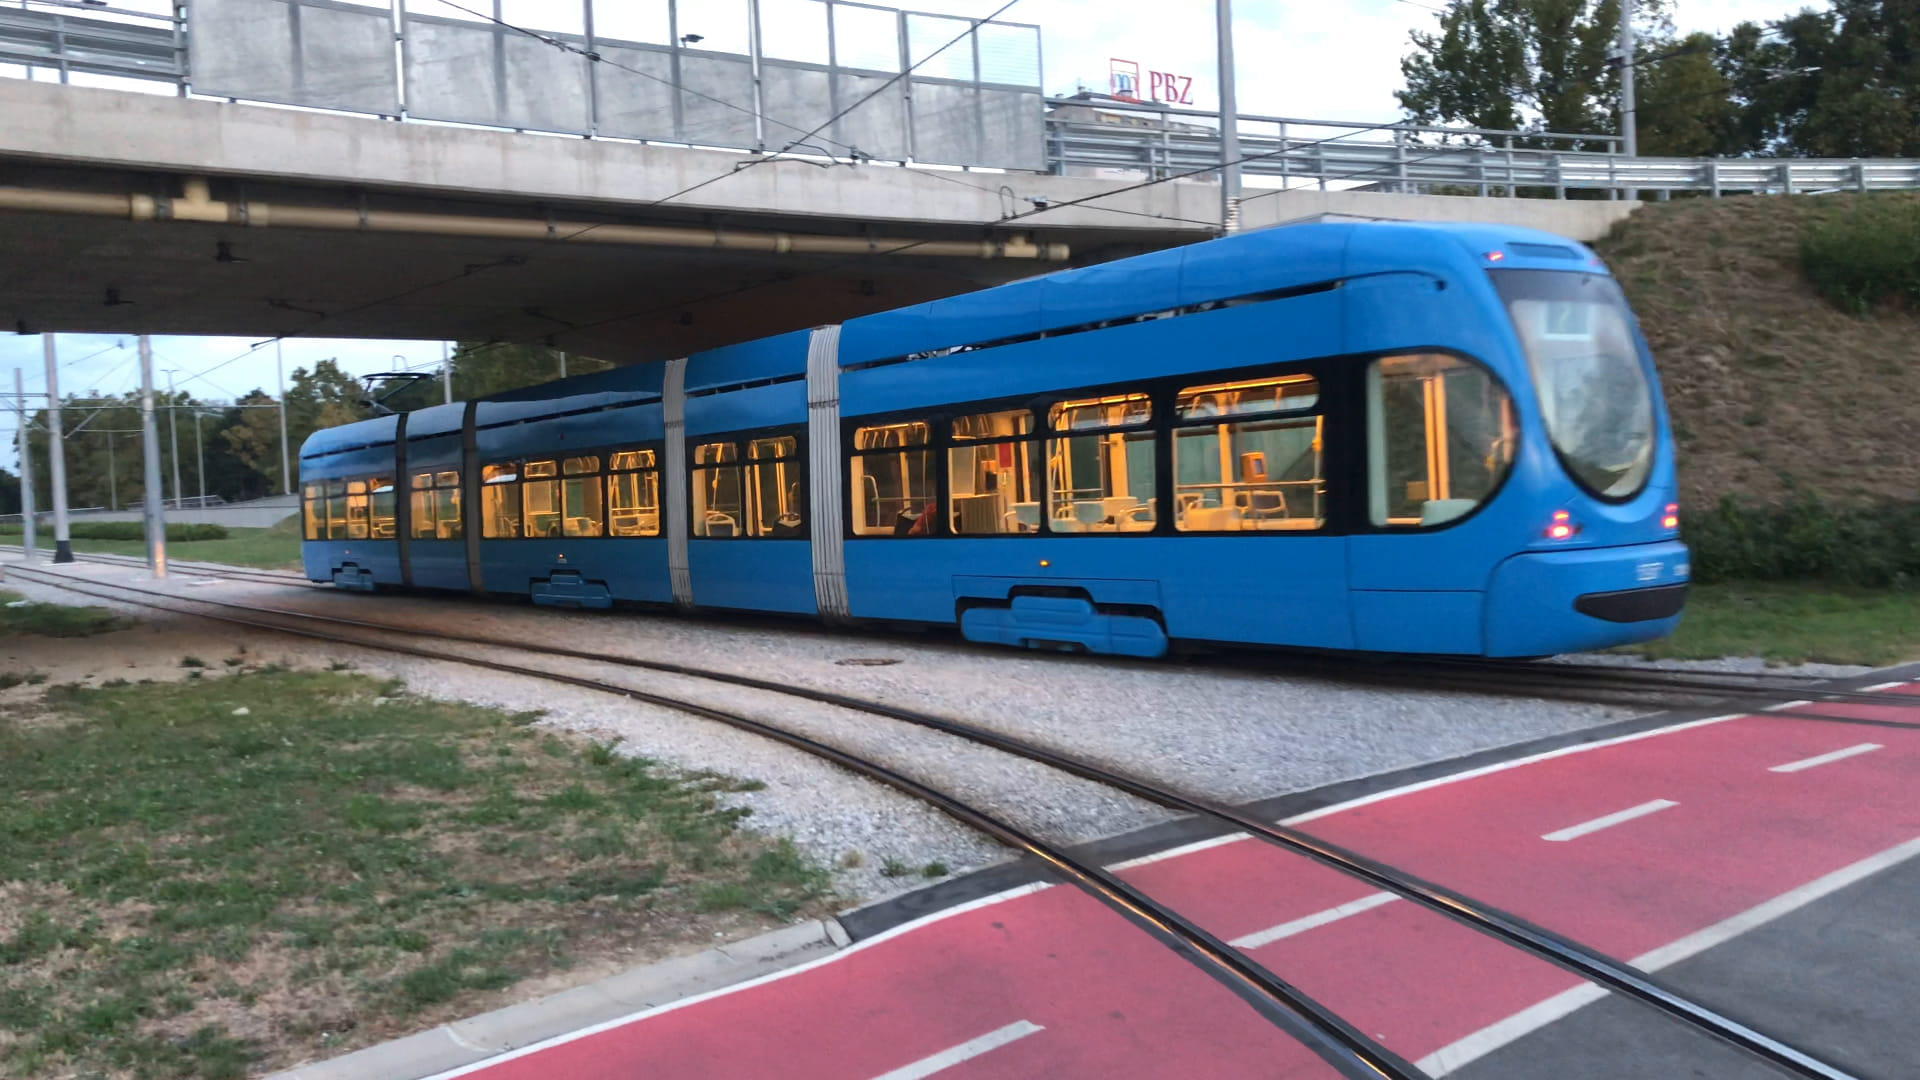tramvaj: (289, 208, 1706, 667)
